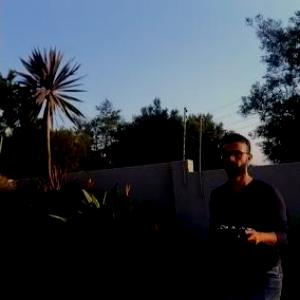follow: (205, 122, 296, 299)
